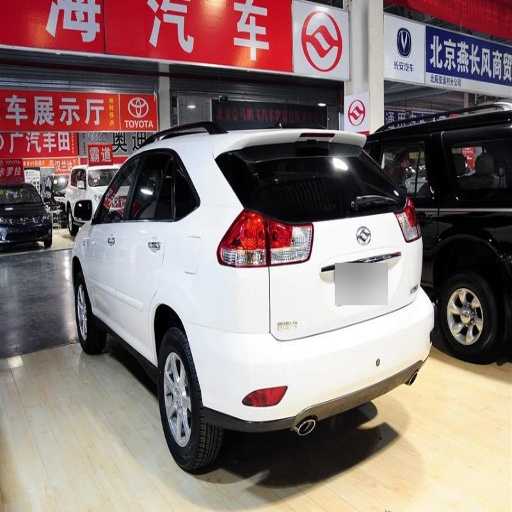_background_: (186, 268, 434, 433), (397, 242, 420, 273)
back_bumper: (217, 147, 390, 214)
back_glass: (122, 151, 171, 346)
back_left_door: (218, 211, 271, 267)
back_right_door: (398, 201, 420, 242)
front_glass: (89, 156, 139, 331)
tailgate: (221, 211, 416, 339)
trunk: (159, 325, 224, 473), (437, 273, 498, 360), (75, 276, 102, 351)
